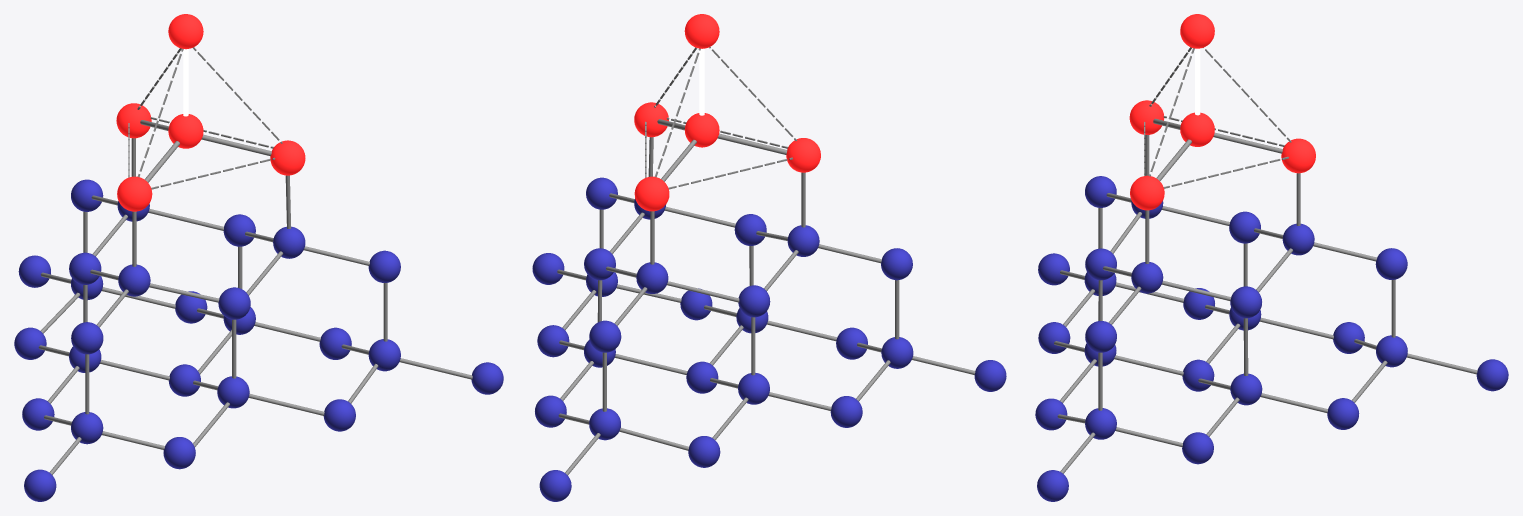
File: jgs.gltf
3 renders of one model, left to right at view 1: azimuth 30°, elevation 25°; view 2: azimuth 150°, elevation 25°; view 3: azimuth 270°, elevation 25°, orthographic.
Visible parts, largest first — view 1: C_1, C_7, C_6, C_4, C_8, C_ohter_2, C_ohter_5, C_ohter_46, C_ohter_57, C_ohter_55, C_ohter_38, C_ohter_15 (+14 smaller); view 2: C_1, C_8, C_7, C_4, C_6, C_ohter_31, C_ohter_48, C_ohter_39, C_ohter_26, C_ohter_46, C_ohter_2, C_ohter_3 (+14 smaller); view 3: C_6, C_1, C_8, C_4, C_7, C_ohter_31, C_ohter_42, C_ohter_39, C_ohter_6, C_ohter_34, C_ohter_38, C_ohter_57 (+14 smaller).
Boxes of the visible parts, <box> form: C_1: <box>168,14,203,49</box>; C_7: <box>117,176,152,211</box>; C_6: <box>270,140,305,175</box>; C_4: <box>168,114,203,148</box>; C_8: <box>116,103,151,138</box>; C_ohter_2: <box>71,322,103,354</box>; C_ohter_5: <box>218,287,250,319</box>; C_ohter_46: <box>24,469,56,501</box>; C_ohter_57: <box>471,362,503,394</box>; C_ohter_55: <box>323,399,355,431</box>; C_ohter_38: <box>368,250,400,282</box>; C_ohter_15: <box>163,437,195,469</box>; C_1: <box>684,14,719,48</box>; C_8: <box>634,176,669,211</box>; C_7: <box>786,138,820,172</box>; C_4: <box>684,113,719,147</box>; C_6: <box>634,102,668,137</box>; C_ohter_31: <box>539,470,571,501</box>; C_ohter_48: <box>830,396,862,427</box>; C_ohter_39: <box>589,320,621,352</box>; C_ohter_26: <box>688,436,720,467</box>; C_ohter_46: <box>974,360,1006,391</box>; C_ohter_2: <box>881,248,912,280</box>; C_ohter_3: <box>738,285,770,317</box>; C_6: <box>1130,175,1164,210</box>; C_1: <box>1180,14,1214,48</box>; C_8: <box>1281,138,1315,173</box>; C_4: <box>1180,112,1214,146</box>; C_7: <box>1129,100,1164,134</box>; C_ohter_31: <box>1476,359,1508,391</box>; C_ohter_42: <box>1182,432,1213,464</box>; C_ohter_39: <box>1375,248,1407,279</box>; C_ohter_6: <box>1230,286,1261,318</box>; C_ohter_34: <box>1327,398,1359,429</box>; C_ohter_38: <box>1085,321,1116,352</box>; C_ohter_57: <box>1037,470,1068,501</box>.
Size of the model in its own units: 106 by 81.19 by 92.88.
